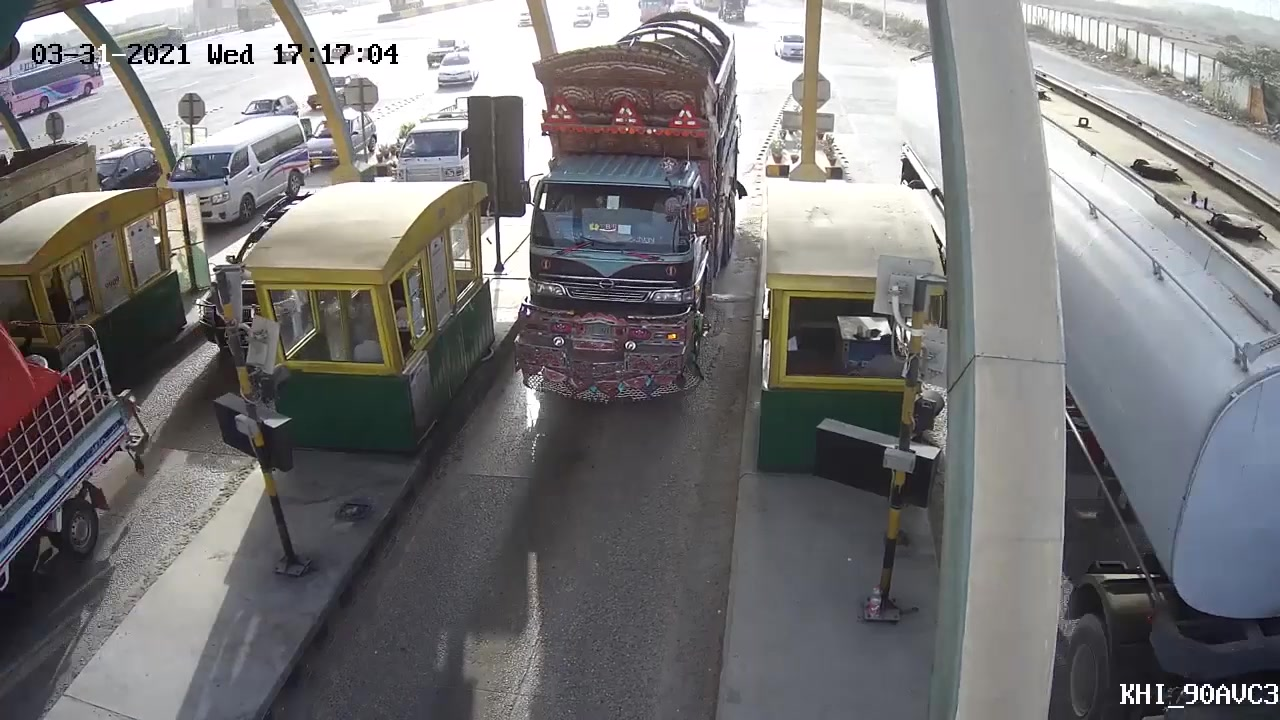F5: (514, 8, 752, 408)
